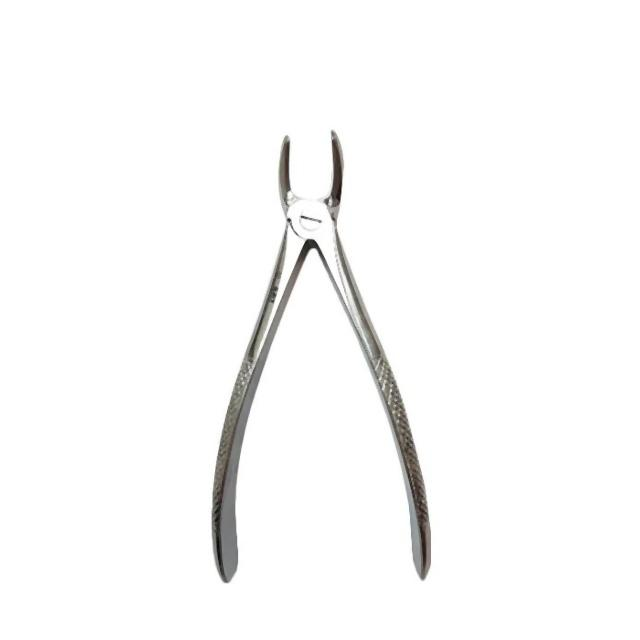forceps: (210, 134, 432, 584)
